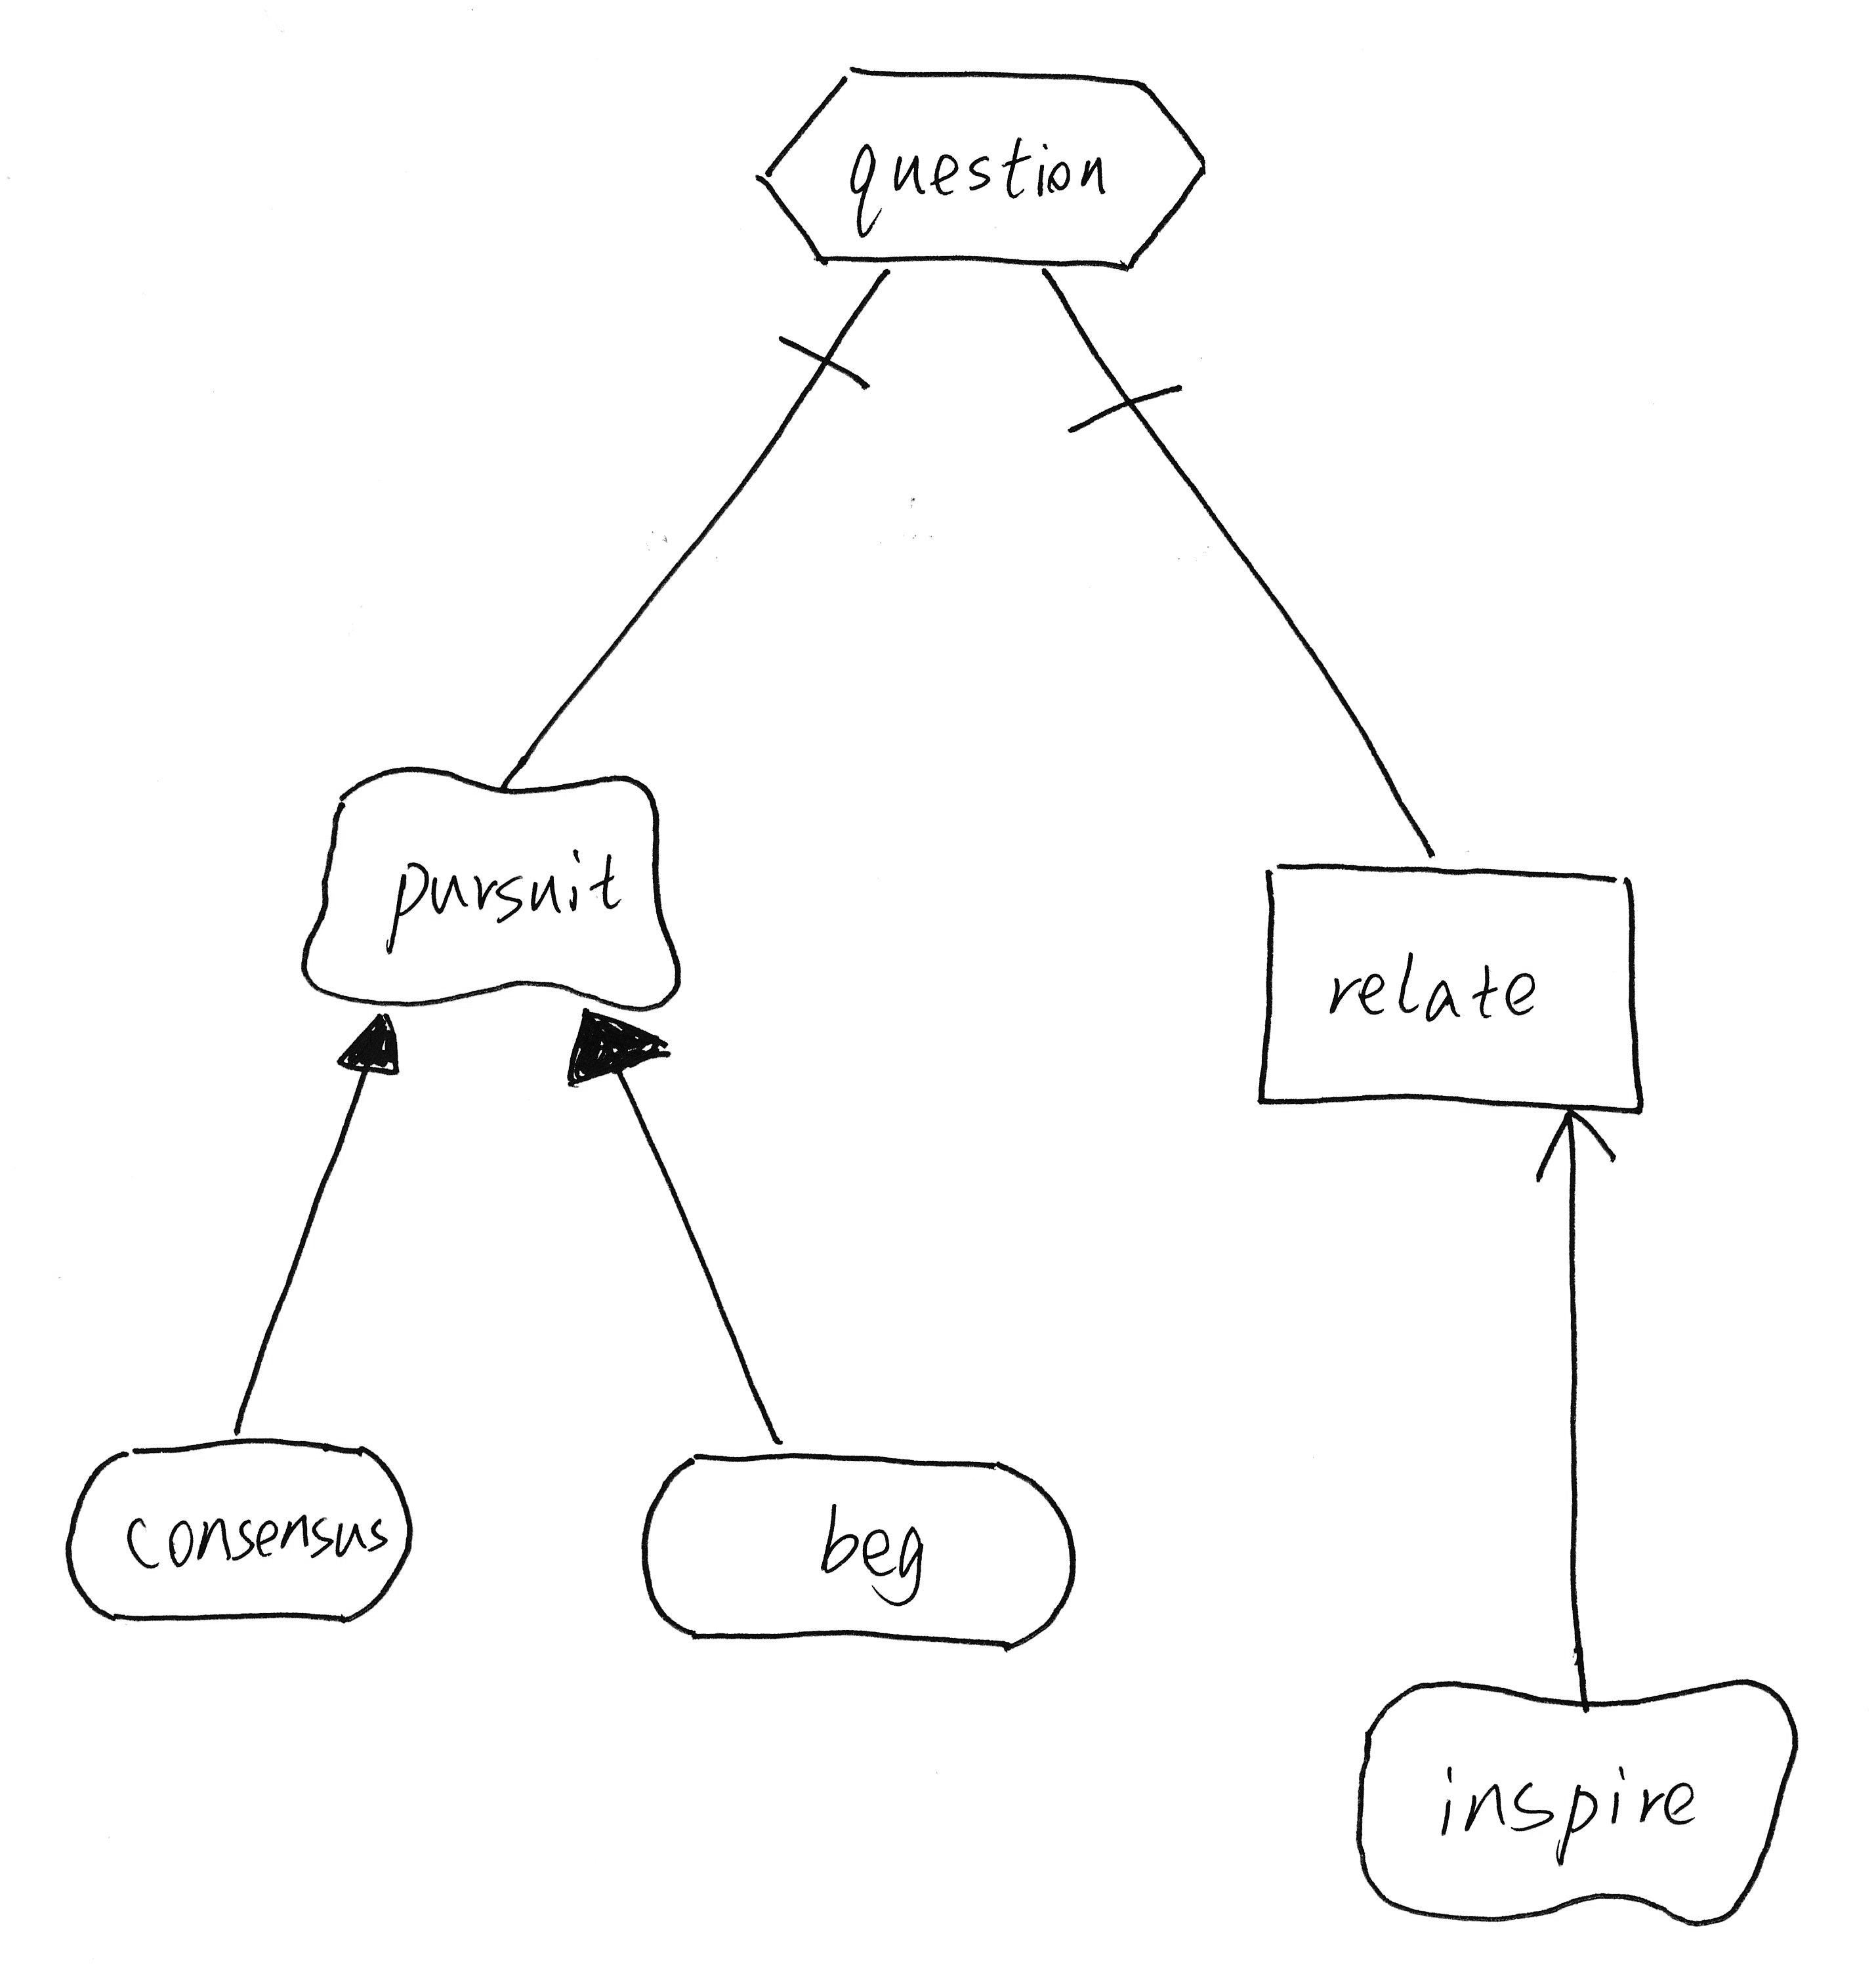and: (1027, 252, 1198, 444), (775, 264, 900, 405)
arrow: (1531, 1091, 1624, 1195)
goal: (618, 1435, 1103, 1671), (51, 1421, 430, 1643)
or: (557, 1001, 683, 1103), (328, 998, 412, 1095)
quality: (1330, 1662, 1814, 1941), (285, 746, 699, 1029)
resource: (1238, 839, 1663, 1132)
task: (742, 48, 1226, 284)
